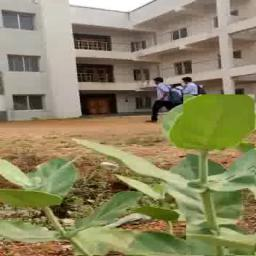Calotropis: (3, 148, 187, 256), (184, 94, 256, 256)
